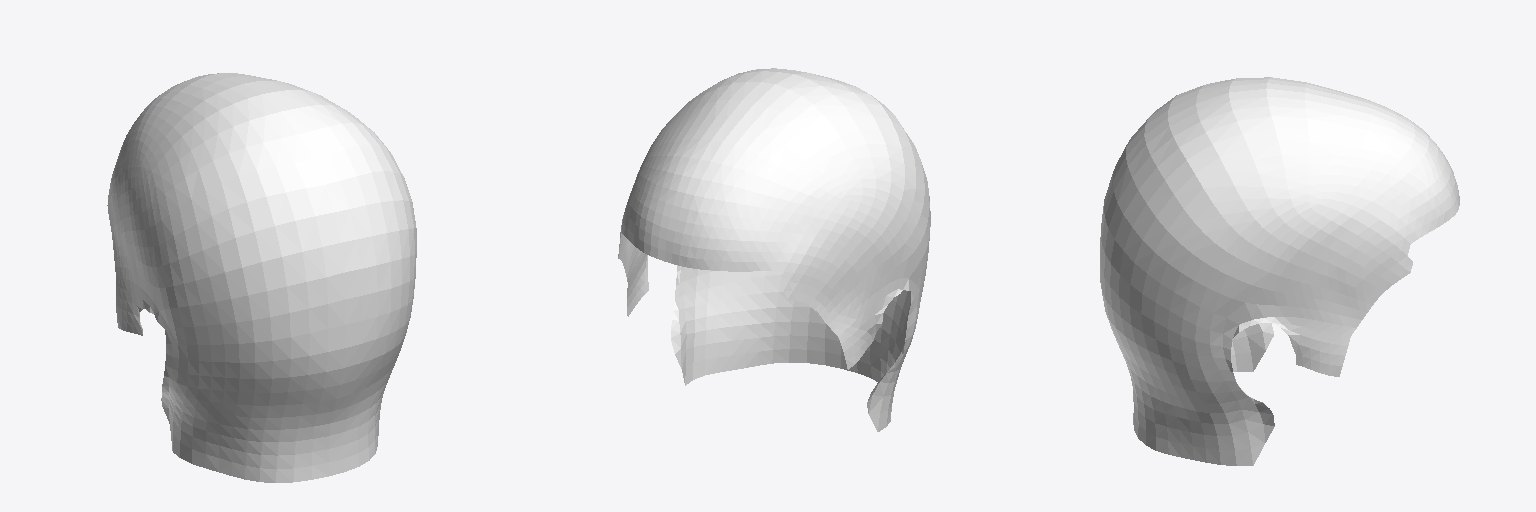
File: hair_plate.obj
3 views of the same model, side by side, from view 1: azimuth 30°, elevation 25°; view 2: azimuth 150°, elevation 25°; view 3: azimuth 270°, elevation 25° (orthographic).
Visible parts, largest first — view 1: mrus_head_hair_plate; view 2: mrus_head_hair_plate; view 3: mrus_head_hair_plate.
Boxes of the visible parts, x1,y1,x2,y2 form: mrus_head_hair_plate: [107, 73, 416, 482]; mrus_head_hair_plate: [618, 68, 930, 431]; mrus_head_hair_plate: [1100, 77, 1459, 465].
Size of the model in its own units: 0.1577 by 0.2067 by 0.202.